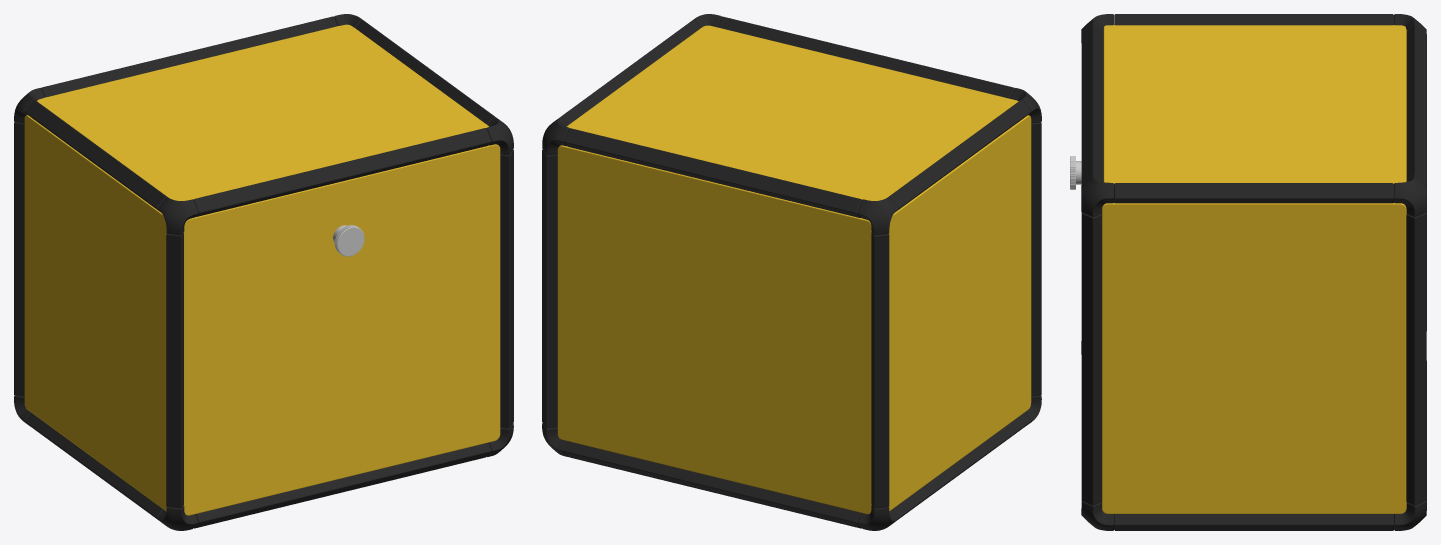
3 renders of one model, left to right at view 1: azimuth 30°, elevation 25°; view 2: azimuth 150°, elevation 25°; view 3: azimuth 270°, elevation 25°, orthographic. The views are drawn at different scales.
Parts seen in each view (by area): view 1: 420x329x374; view 2: 420x329x374; view 3: 420x329x374.
Boxes of the visible parts, x1,y1,x2,y2 form: 420x329x374: [14, 14, 513, 530]; 420x329x374: [542, 14, 1041, 530]; 420x329x374: [1070, 14, 1426, 530].
Size of the model in its own units: 0.4977 by 0.4516 by 0.4196.
